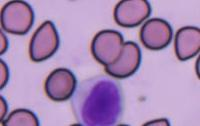L: (74, 74, 125, 126)
